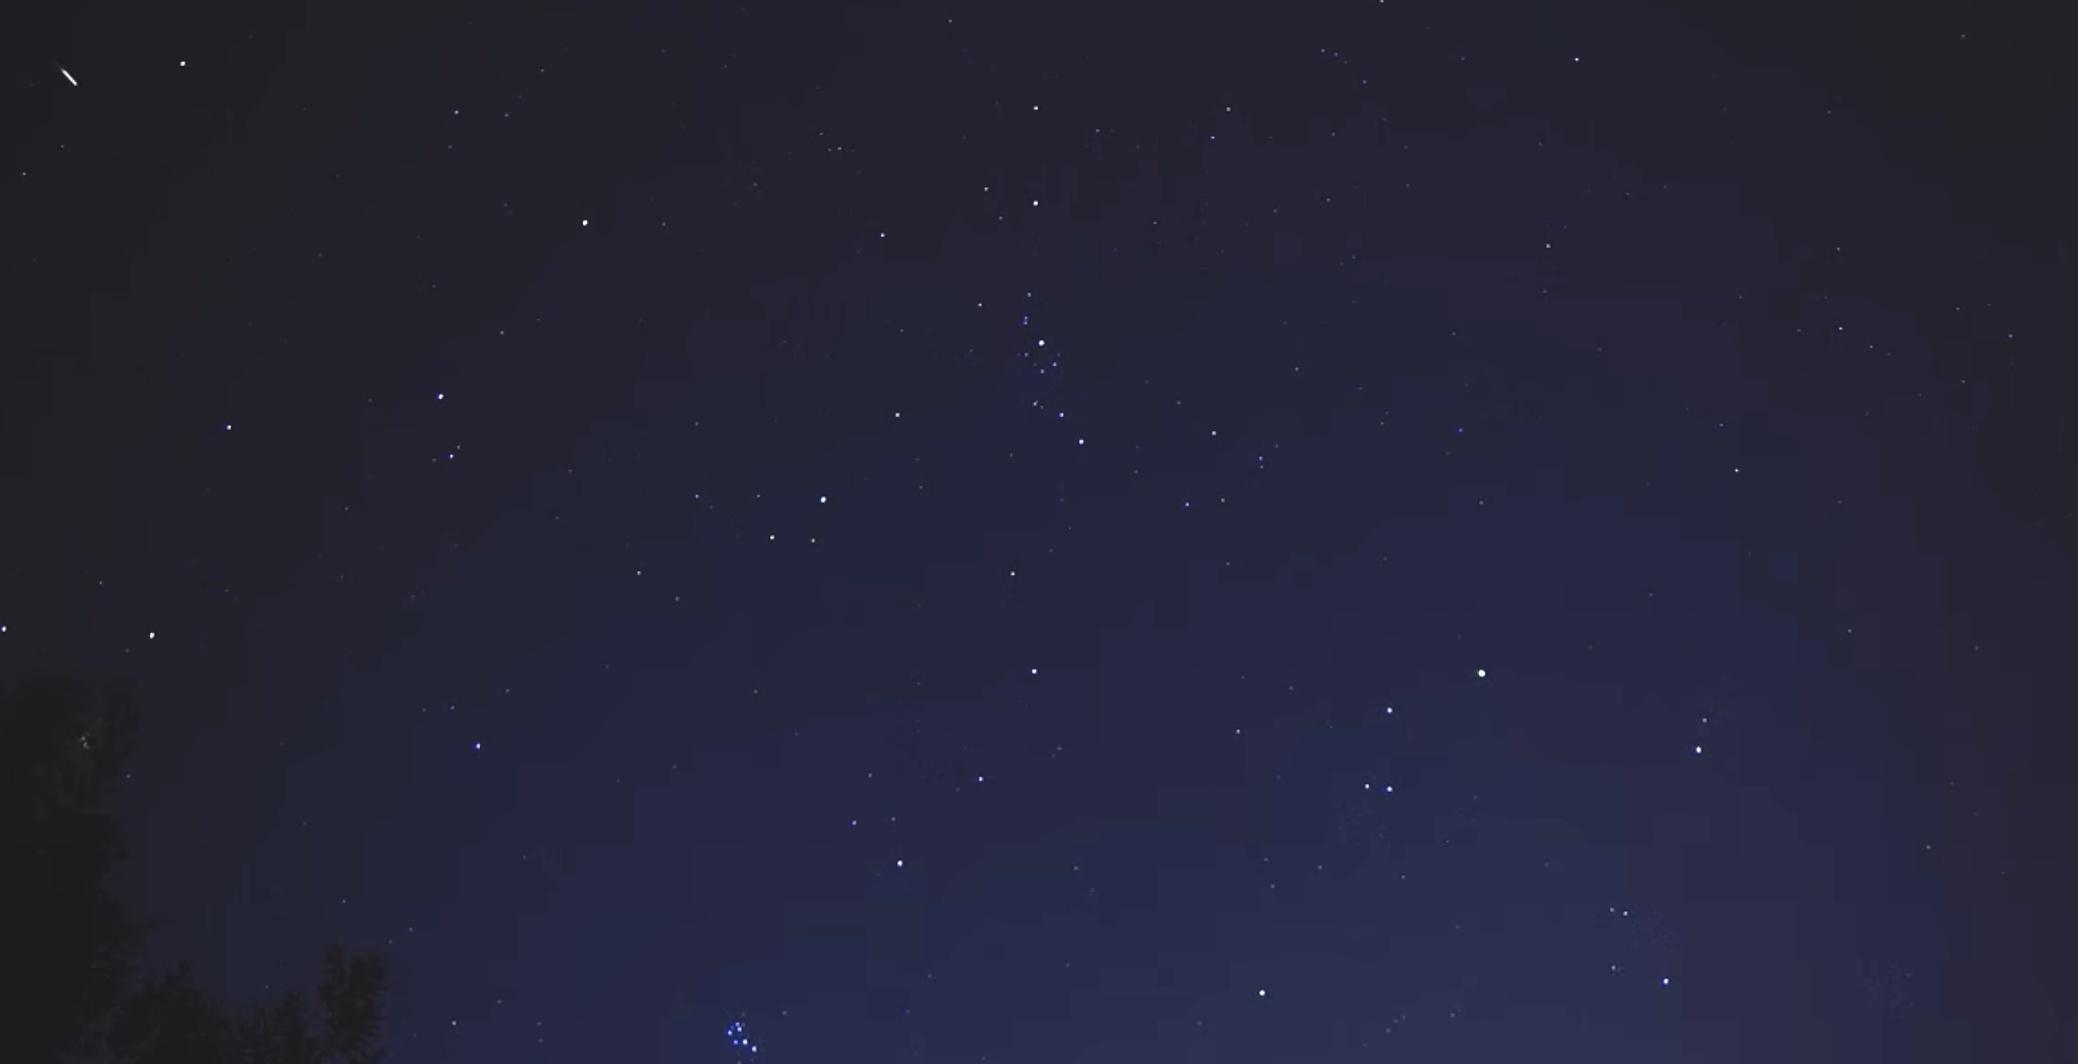meteorite: (31, 46, 109, 104)
